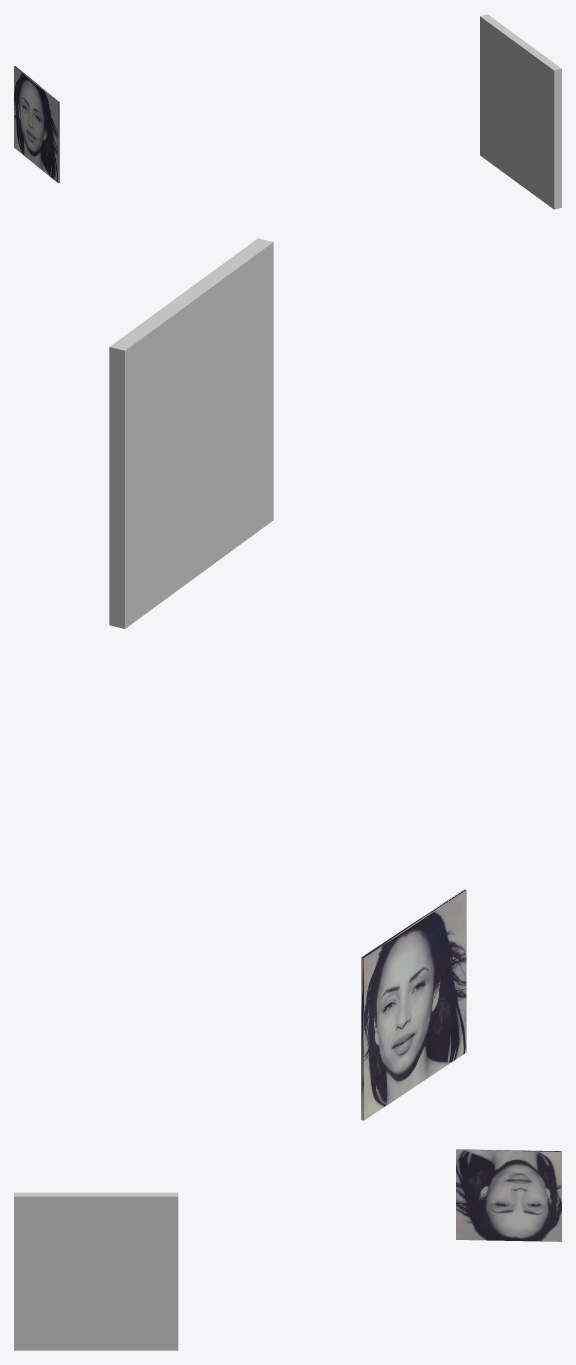
Rendered from PinkFloyd.fbx.
The picture shows the model from 3 angles, top to bottom: view 1: azimuth 30°, elevation 25°; view 2: azimuth 150°, elevation 25°; view 3: azimuth 270°, elevation 25°; orthographic projection. The views are drawn at different scales.
Visible parts, largest first — view 1: Cube, Cube.001; view 2: Cube, Cube.001; view 3: Cube, Cube.001.
Part boxes in pixels (box(x1,y1,x2,y2)): Cube: box(480, 14, 561, 209); Cube.001: box(14, 66, 59, 183); Cube: box(109, 238, 273, 628); Cube.001: box(361, 889, 466, 1120); Cube: box(14, 1192, 178, 1350); Cube.001: box(456, 1149, 561, 1241).
Bounding box in the file's own units: 194 × 114 × 274.
